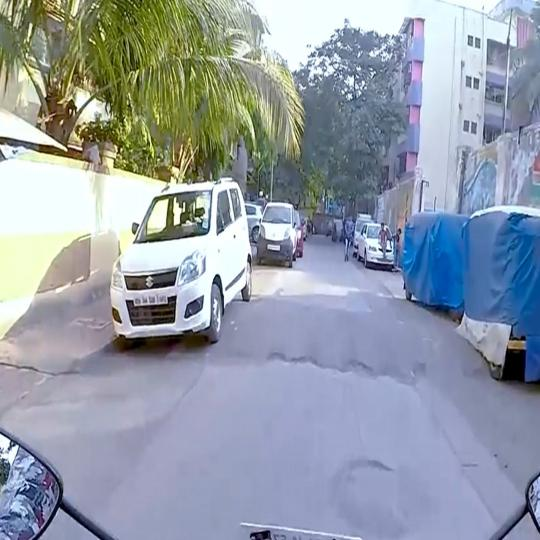Speed Bump: (219, 293, 490, 380)
